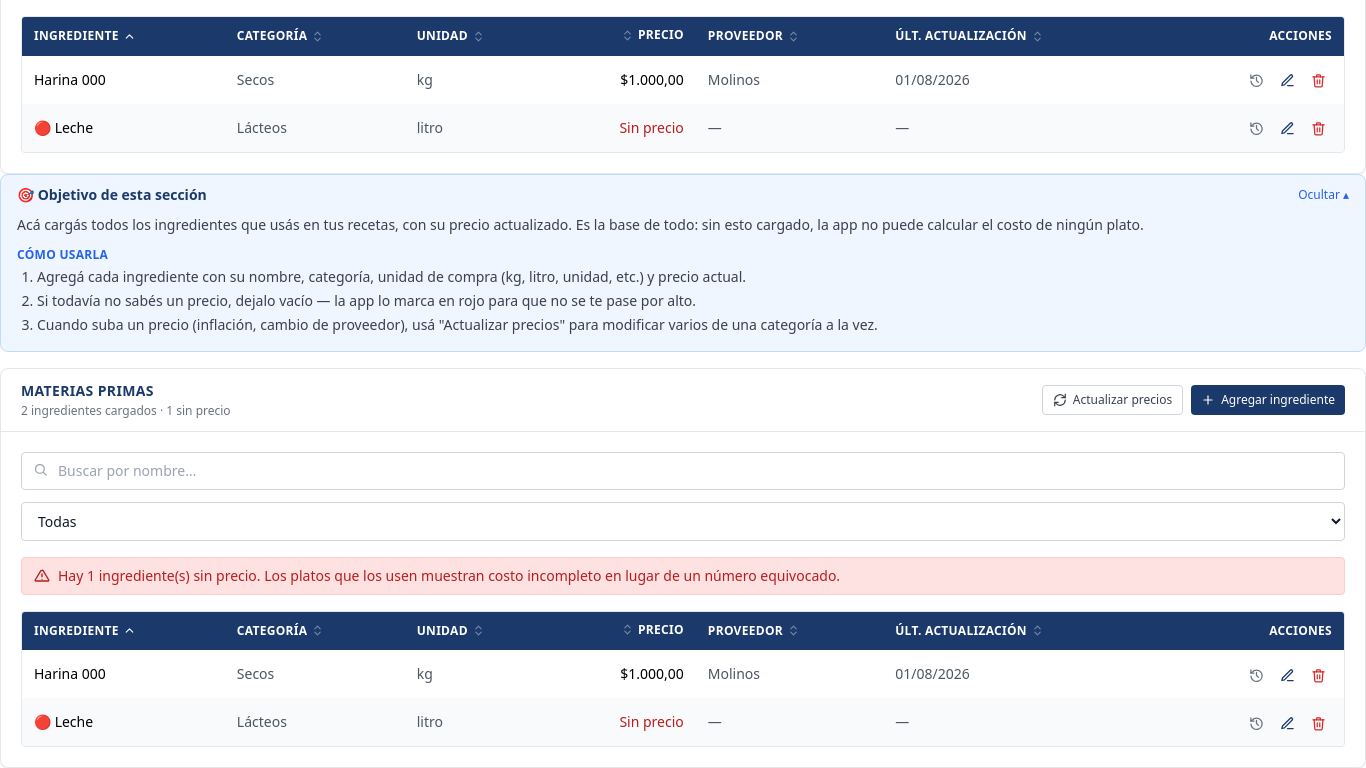
SeccionMaterias › clickear el ícono de historial abre el modal de historial de ese ingrediente
The width and height of the screenshot is (1366, 768).
(page scrolled)
Click the 3rd button titled "Ver historial de precio" at (1256, 674), box x1=1243 y1=658 x2=1270 y2=690
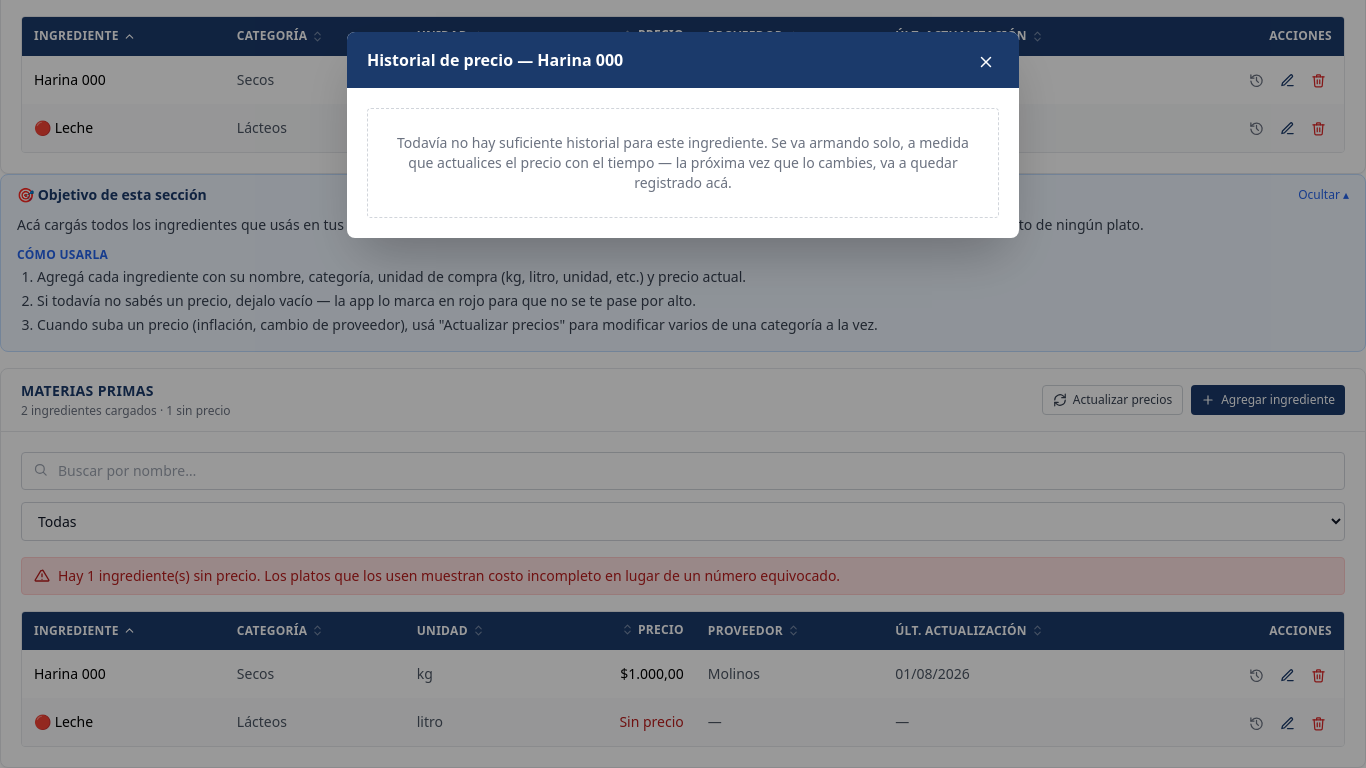
Result: the text "Historial de precio" is shown at x1=367 y1=49 x2=623 y2=71
